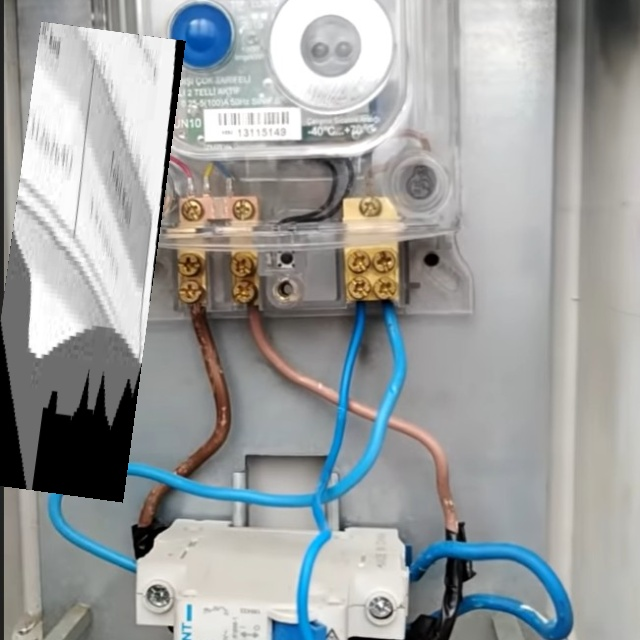electricity-bill: (0, 21, 185, 503)
